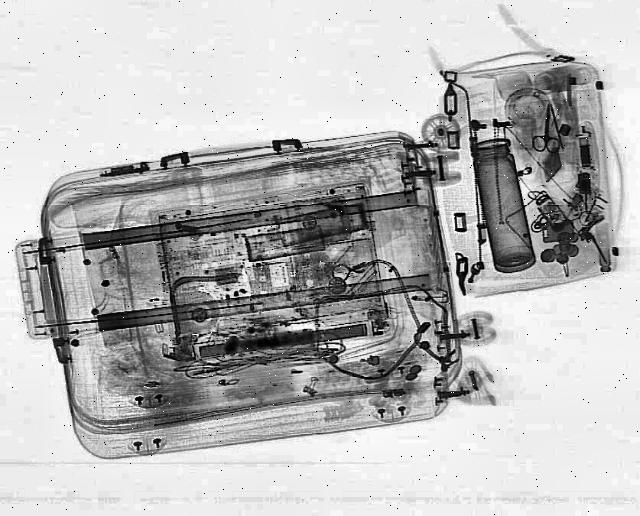Scissors: (532, 106, 560, 154)
